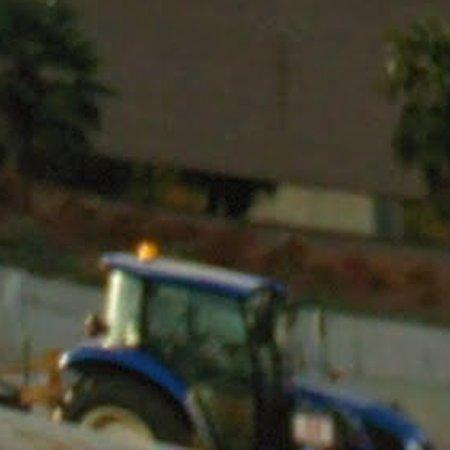tractors: (43, 242, 434, 450)
